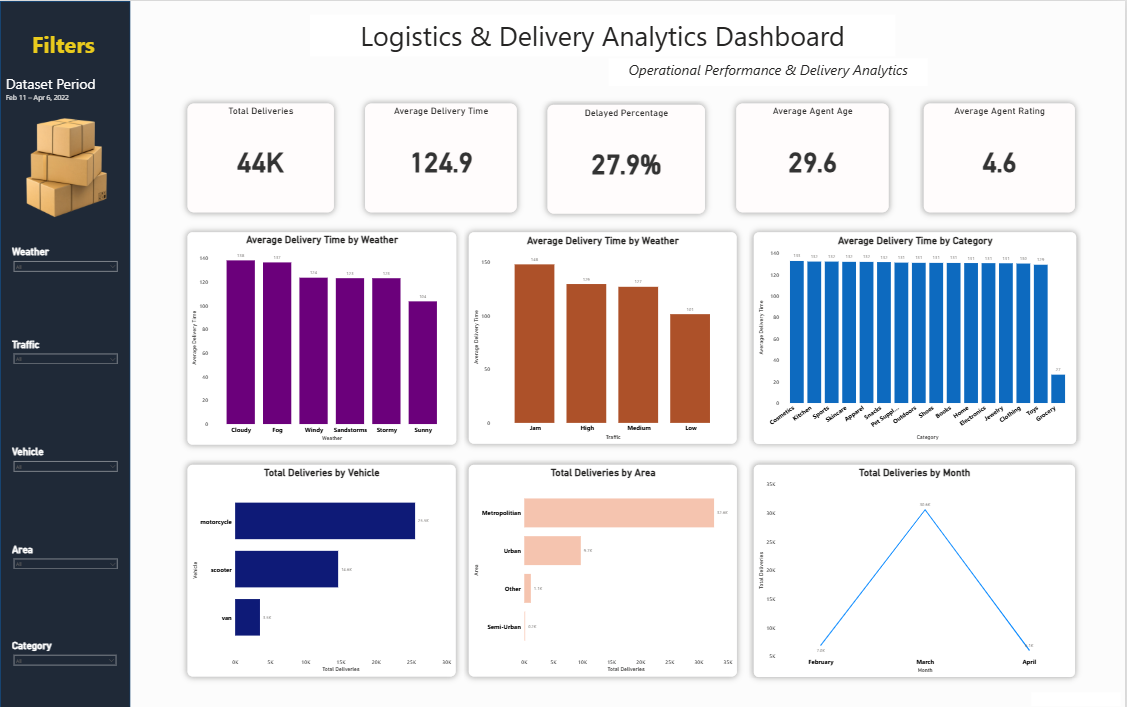

This screenshot's page, from the dashboard's own definition file:
{"tool":"powerbi","page":{"name":"Proffesional Dashboard","canvas":[3000,1900],"ordinal":0},"visuals":[{"type":"textbox","box":[2748.3,1843.3,238.3,36.7],"z":0},{"type":"shape","box":[0,0,347.5,2000],"z":1000},{"type":"textbox","box":[826.1,37,1560.9,110.9],"z":2000},{"type":"textbox","box":[1621.7,152.2,850,73.9],"z":3000},{"type":"advanceCardE03760C5AB684758B56AA29F9E6C257B","title":"Total Deliveries","fields":{"mainMeasure":["Measures (2).Total Deliveries"]},"box":[499.2,272.9,390,290],"z":4000},{"type":"advanceCardE03760C5AB684758B56AA29F9E6C257B","title":"Average Delivery Time ","fields":{"mainMeasure":["Measures (2).Average Delivery Time"]},"box":[974.2,272.9,405,290],"z":5000},{"type":"advanceCardE03760C5AB684758B56AA29F9E6C257B","title":"Average Agent Rating","fields":{"mainMeasure":["Measures (2).Average Agent Rating"]},"box":[2462.5,272.9,403.3,290],"z":6000},{"type":"advanceCardE03760C5AB684758B56AA29F9E6C257B","title":"Delayed Percentage","fields":{"mainMeasure":["Measures (2).Delay Percentage"]},"box":[1459.2,276.2,420,290],"z":7000},{"type":"advanceCardE03760C5AB684758B56AA29F9E6C257B","title":"Average Agent Age","fields":{"mainMeasure":["Measures (2).Average Agent Age"]},"box":[1962.5,272.9,406.7,290],"z":8000},{"type":"clusteredColumnChart","fields":{"Category":["amazon_delivery_cleaned.Weather"],"Y":["Measures (2).Average Delivery Time"]},"box":[500,616.7,716.7,566.7],"z":9000},{"type":"clusteredColumnChart","fields":{"Category":["amazon_delivery_cleaned.Traffic"],"Y":["Measures (2).Average Delivery Time"]},"box":[1249.2,616.9,714,564],"z":10000},{"type":"clusteredBarChart","fields":{"Category":["amazon_delivery_cleaned.Vehicle"],"Y":["Measures (2).Total Deliveries"]},"box":[499.2,1237.9,715,565],"z":11000},{"type":"clusteredBarChart","fields":{"Category":["amazon_delivery_cleaned.Area"],"Y":["Measures (2).Total Deliveries"]},"box":[1249.2,1237.9,715,565],"z":12000},{"type":"clusteredColumnChart","fields":{"Category":["amazon_delivery_cleaned.Category"],"Y":["Measures (2).Average Delivery Time"]},"box":[2009.2,617.9,860,565],"z":13000},{"type":"lineChart","fields":{"Category":["amazon_delivery_cleaned.Order_Date.Variation.Date Hierarchy.Month"],"Y":["Measures (2).Total Deliveries"]},"box":[2010,1236.7,856.7,566.7],"z":14000},{"type":"textbox","box":[20,53.3,281.7,135],"z":15000},{"type":"slicer","title":" Weather","fields":{"Values":["amazon_delivery_cleaned.Weather"]},"box":[26.7,653.3,296.7,100],"z":16000},{"type":"slicer","title":"Traffic","fields":{"Values":["amazon_delivery_cleaned.Traffic"]},"box":[26.7,900,296.7,100],"z":17000},{"type":"slicer","title":" Category","fields":{"Values":["amazon_delivery_cleaned.Category"]},"box":[26.7,1703.3,293.3,100],"z":18000},{"type":"slicer","title":" Area","fields":{"Values":["amazon_delivery_cleaned.Area"]},"box":[26.7,1445,296.7,100],"z":19000},{"type":"slicer","title":" Vehicle","fields":{"Values":["amazon_delivery_cleaned.Vehicle"]},"box":[26.7,1185,296.7,103.3],"z":20000},{"type":"image","box":[0,272,346,328],"z":21000},{"type":"textbox","box":[10,190,330,124],"z":22000},{"type":"textbox","box":[10,1830,890,70],"z":23000}]}

Visuals, with their boxes in screenshot pixels (x1, y1, x2, y2), scaled from the page's 3000x1900 canvas onto the 1127x707 screenshot:
textbox: [1032, 686, 1122, 700]
shape: [0, 0, 131, 706]
textbox: [310, 14, 897, 55]
textbox: [609, 57, 929, 84]
"Total Deliveries" advanceCardE03760C5AB684758B56AA29F9E6C257B: [188, 102, 334, 209]
"Average Delivery Time " advanceCardE03760C5AB684758B56AA29F9E6C257B: [366, 102, 518, 209]
"Average Agent Rating" advanceCardE03760C5AB684758B56AA29F9E6C257B: [925, 102, 1077, 209]
"Delayed Percentage" advanceCardE03760C5AB684758B56AA29F9E6C257B: [548, 103, 706, 211]
"Average Agent Age" advanceCardE03760C5AB684758B56AA29F9E6C257B: [737, 102, 890, 209]
clusteredColumnChart - amazon_delivery_cleaned.Weather x Measures (2).Average Delivery Time: [188, 229, 457, 440]
clusteredColumnChart - amazon_delivery_cleaned.Traffic x Measures (2).Average Delivery Time: [469, 230, 738, 439]
clusteredBarChart - amazon_delivery_cleaned.Vehicle x Measures (2).Total Deliveries: [188, 461, 456, 671]
clusteredBarChart - amazon_delivery_cleaned.Area x Measures (2).Total Deliveries: [469, 461, 738, 671]
clusteredColumnChart - amazon_delivery_cleaned.Category x Measures (2).Average Delivery Time: [755, 230, 1078, 440]
lineChart - amazon_delivery_cleaned.Order_Date.Variation.Date Hierarchy.Month x Measures (2).Total Deliveries: [755, 460, 1077, 671]
textbox: [8, 20, 113, 70]
" Weather" slicer: [10, 243, 121, 280]
"Traffic" slicer: [10, 335, 121, 372]
" Category" slicer: [10, 634, 120, 671]
" Area" slicer: [10, 538, 121, 575]
" Vehicle" slicer: [10, 441, 121, 479]
image: [0, 101, 130, 223]
textbox: [4, 71, 128, 117]
textbox: [4, 681, 338, 706]
